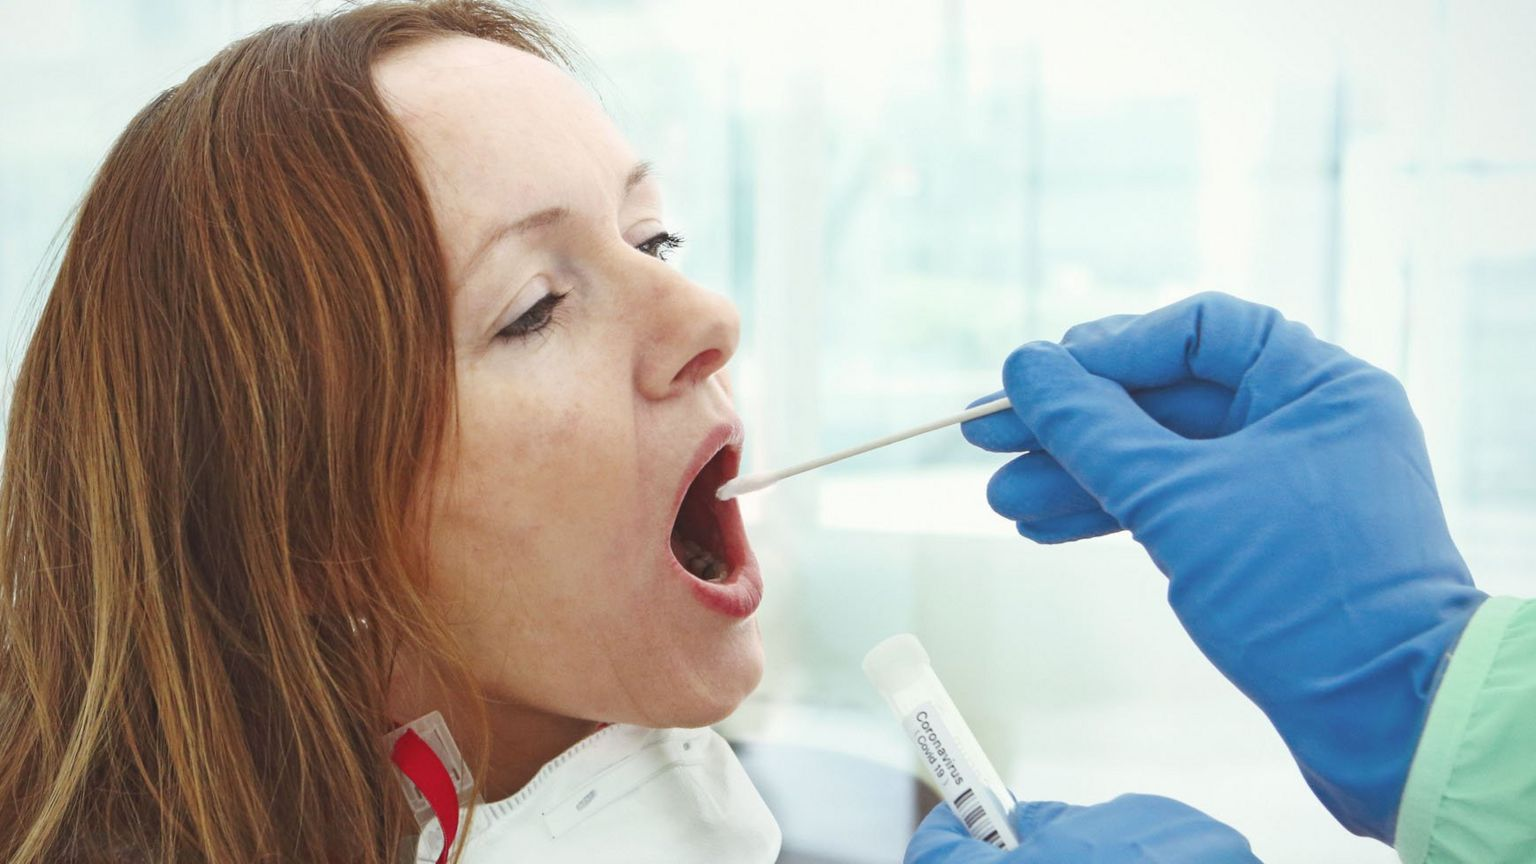Gloves: (956, 270, 1521, 864), (876, 788, 1259, 864)
without_mask: (444, 158, 786, 733)
